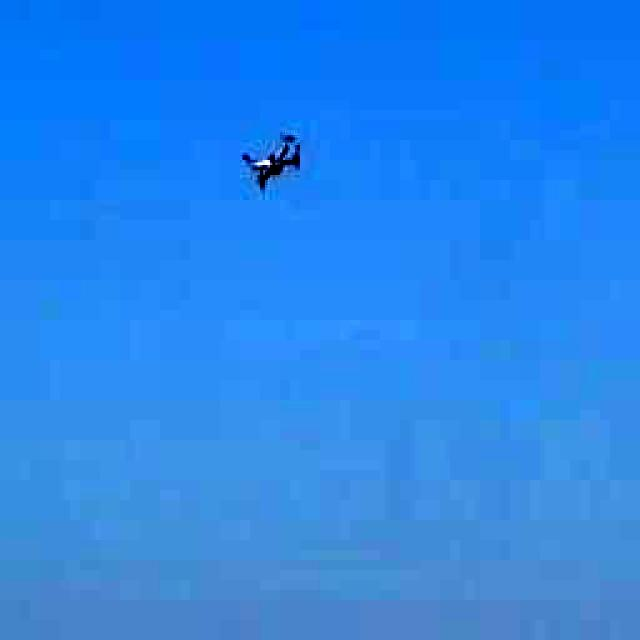bird: (232, 131, 320, 196)
